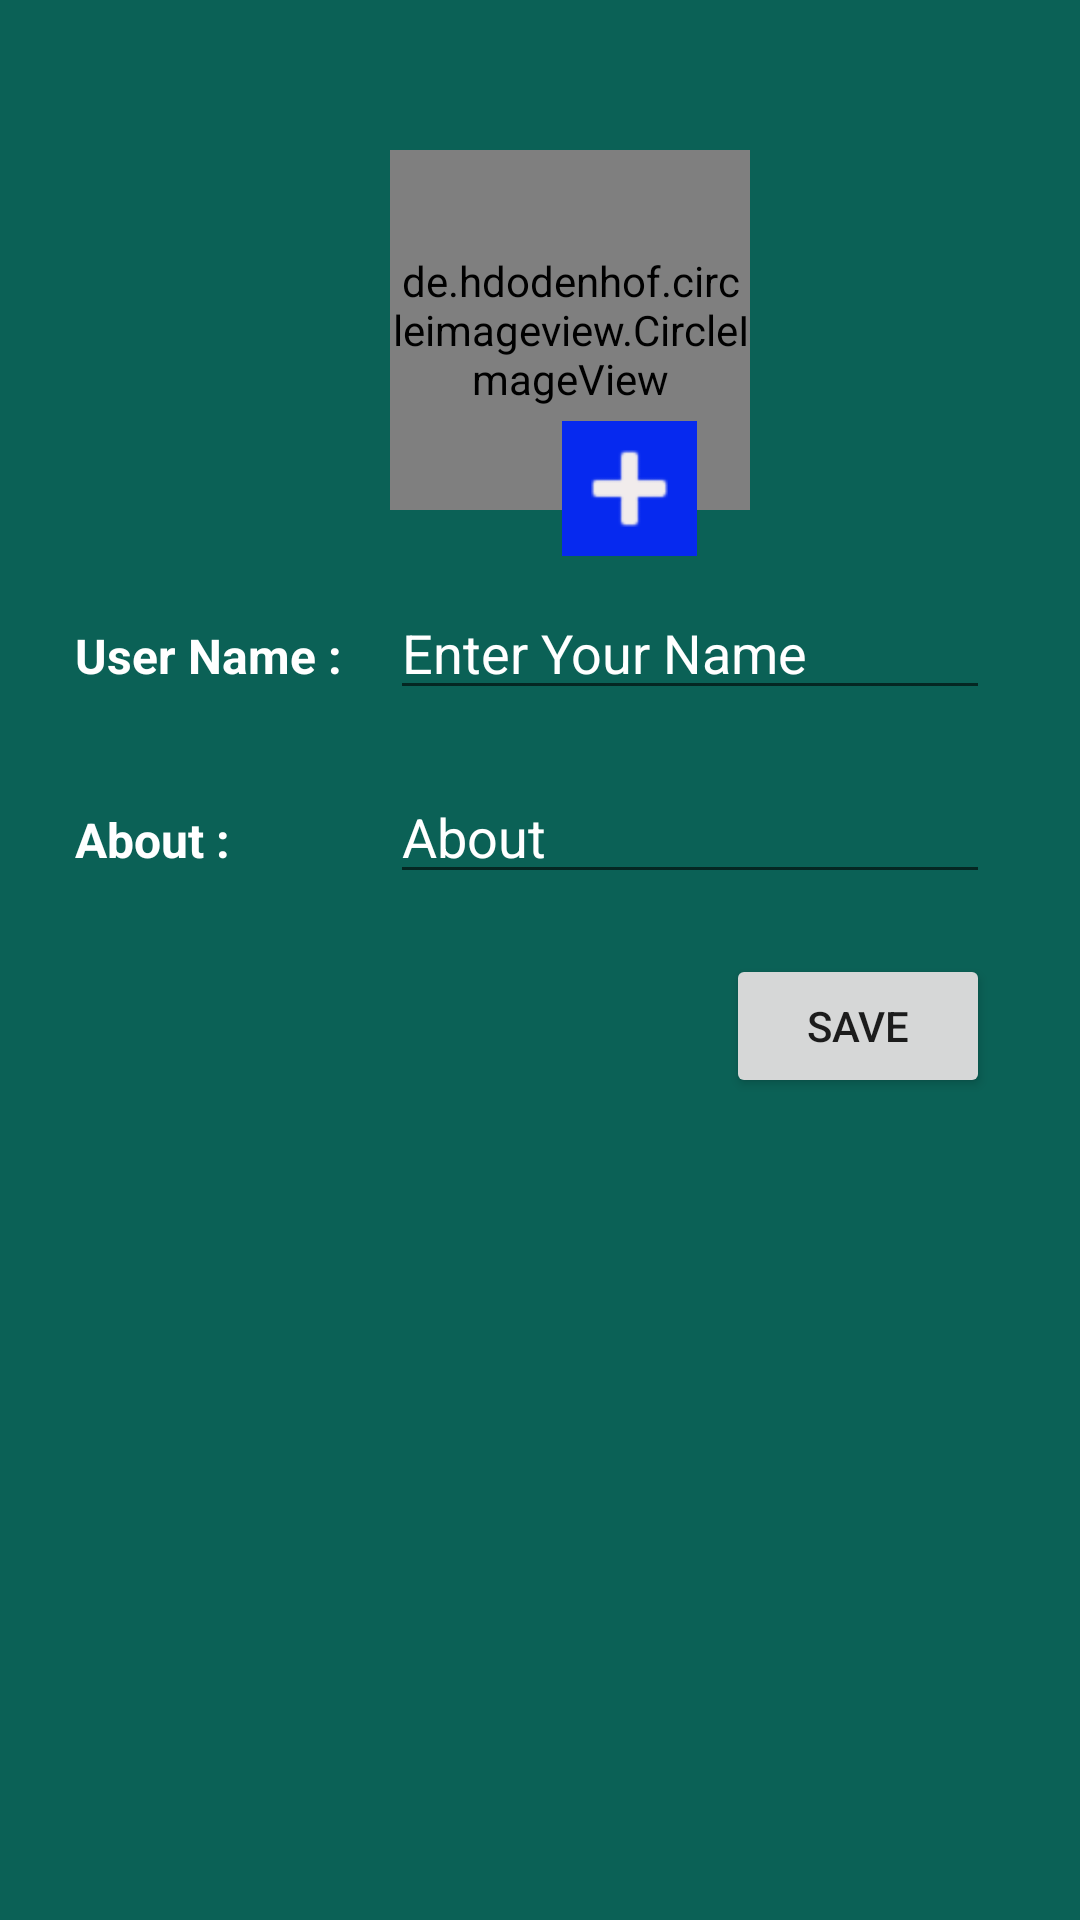

Point at icon controls on the screen. Image size 1080 x 1920, points as point (x, y).
add: point (629, 488)
